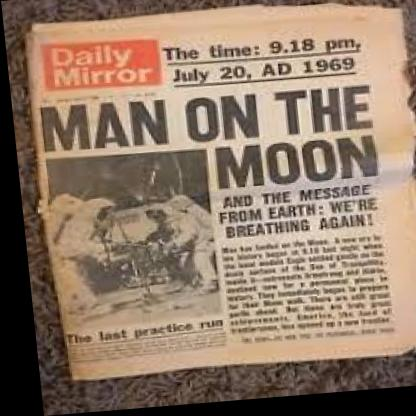Paper: (19, 0, 416, 398)
